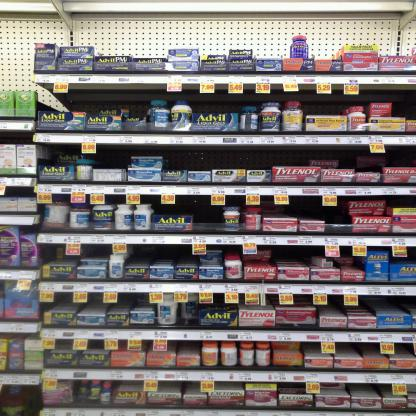Void: (169, 147, 268, 167), (75, 88, 141, 108), (132, 245, 192, 262), (366, 297, 412, 314), (339, 343, 378, 359), (270, 248, 309, 263), (305, 102, 346, 116), (47, 143, 74, 164), (100, 142, 121, 168), (348, 384, 388, 396), (392, 92, 412, 115), (200, 205, 218, 230), (388, 148, 414, 164), (292, 200, 313, 218), (331, 212, 352, 230), (276, 148, 304, 161), (42, 247, 63, 264), (123, 294, 145, 308), (87, 294, 101, 310), (282, 383, 302, 394), (182, 343, 200, 355), (296, 295, 312, 308), (397, 346, 412, 359), (84, 247, 105, 256), (308, 344, 317, 355)
